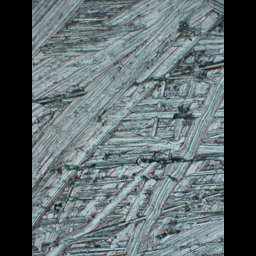d: (32, 0, 222, 253)
